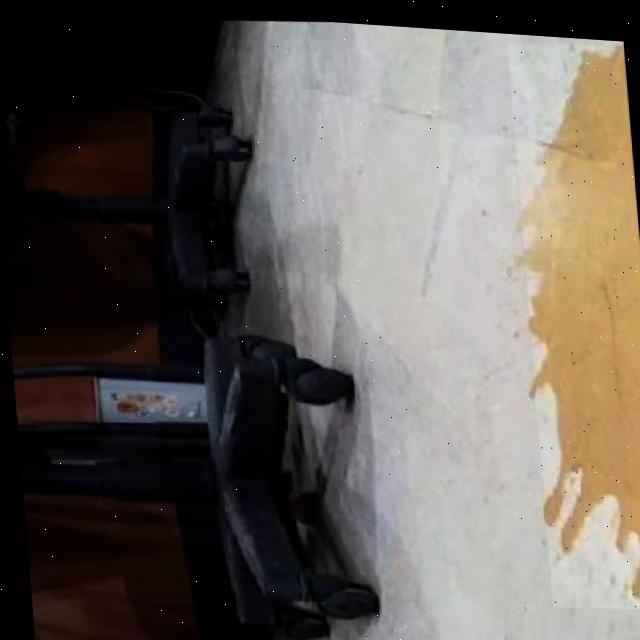spillage: (527, 35, 640, 552)
